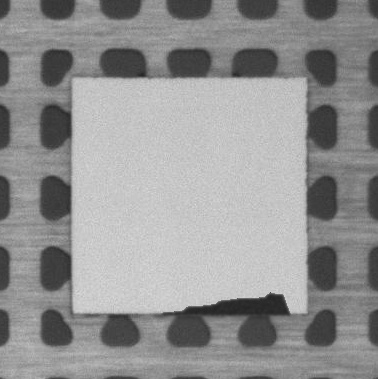DIE_BROKEN: (153, 289, 293, 315)
